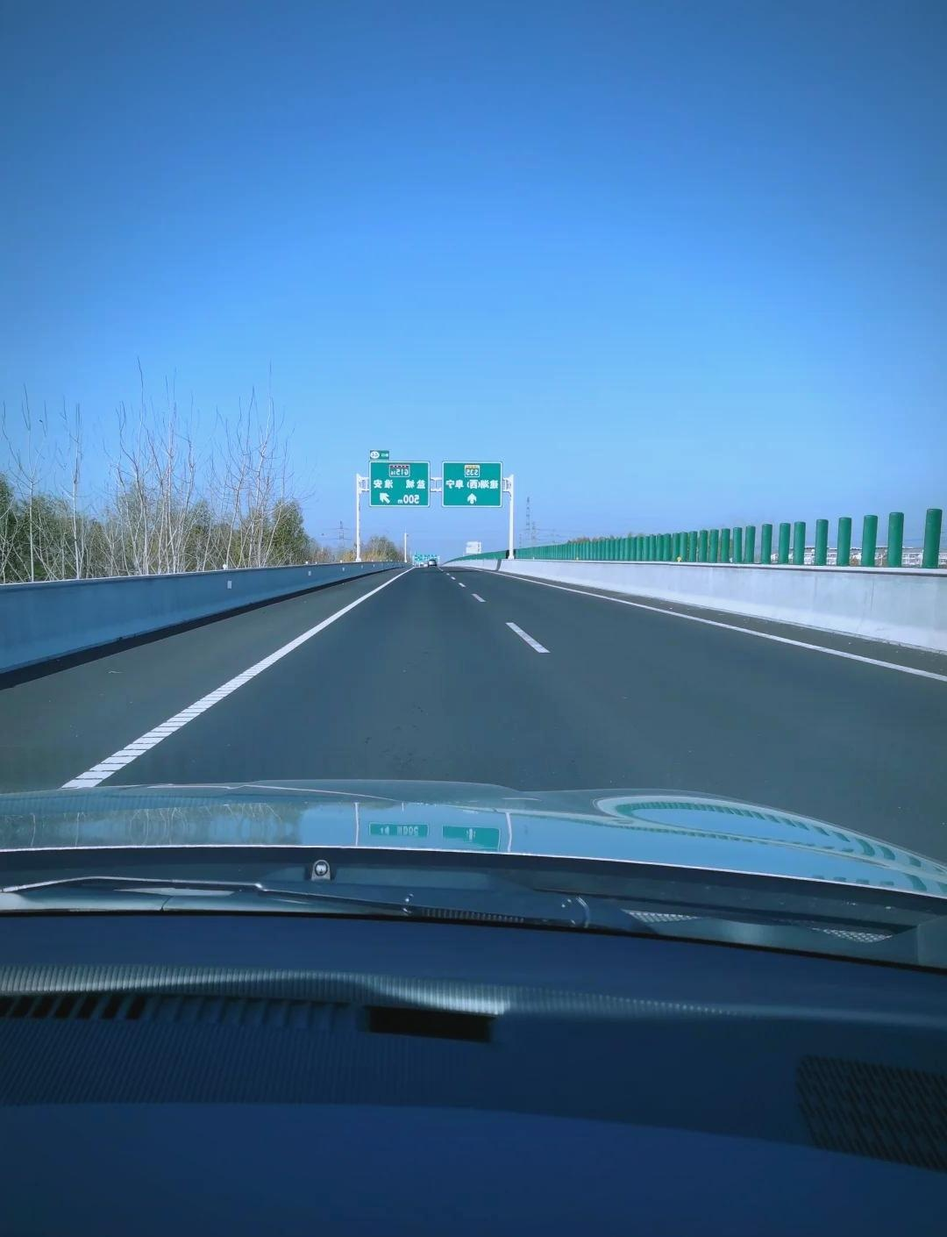lane: (89, 565, 417, 787), (559, 582, 727, 631), (506, 618, 554, 662), (471, 593, 488, 604)
